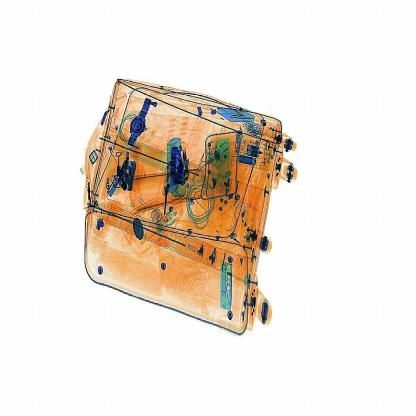scissors: (166, 144, 188, 188)
